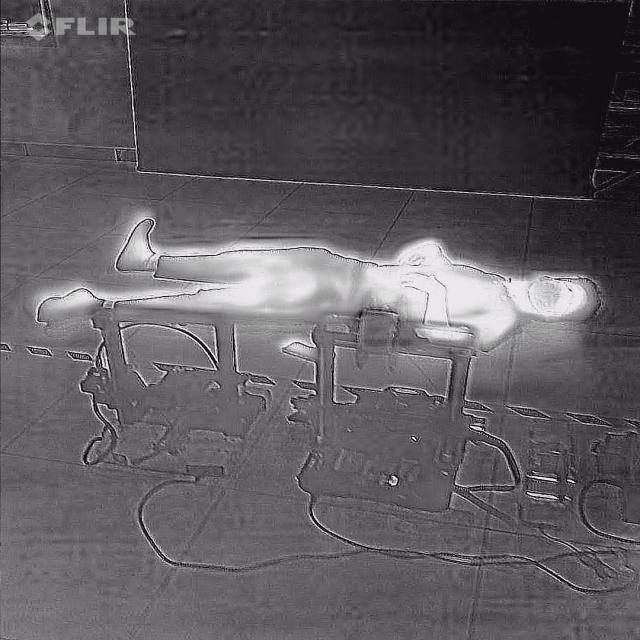Victim: (12, 216, 610, 353)
